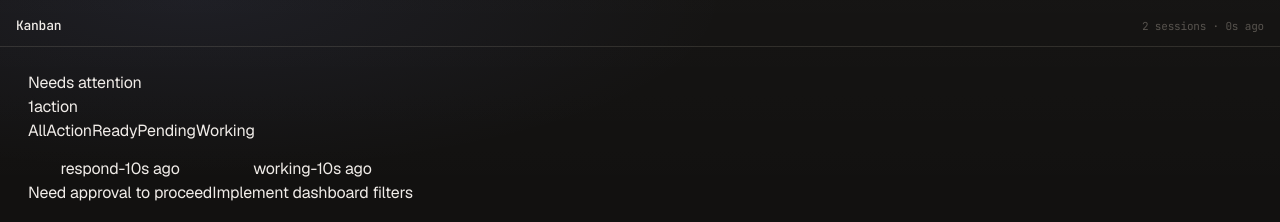
Test: Dashboard mobile layout › filters the mobile board by selected attention bucket
Click the button "Working" at (225, 131), box 196,119 -> 255,143
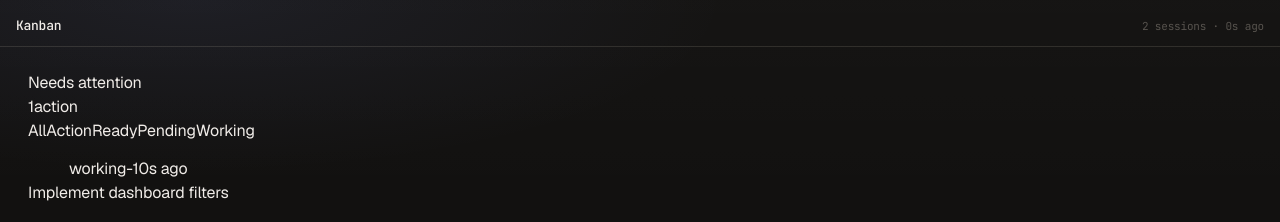
Check: the text "Implement dashboard filters" is shown, box 28,181 -> 229,205
Check: the button "Need approval to proceed" is gone
